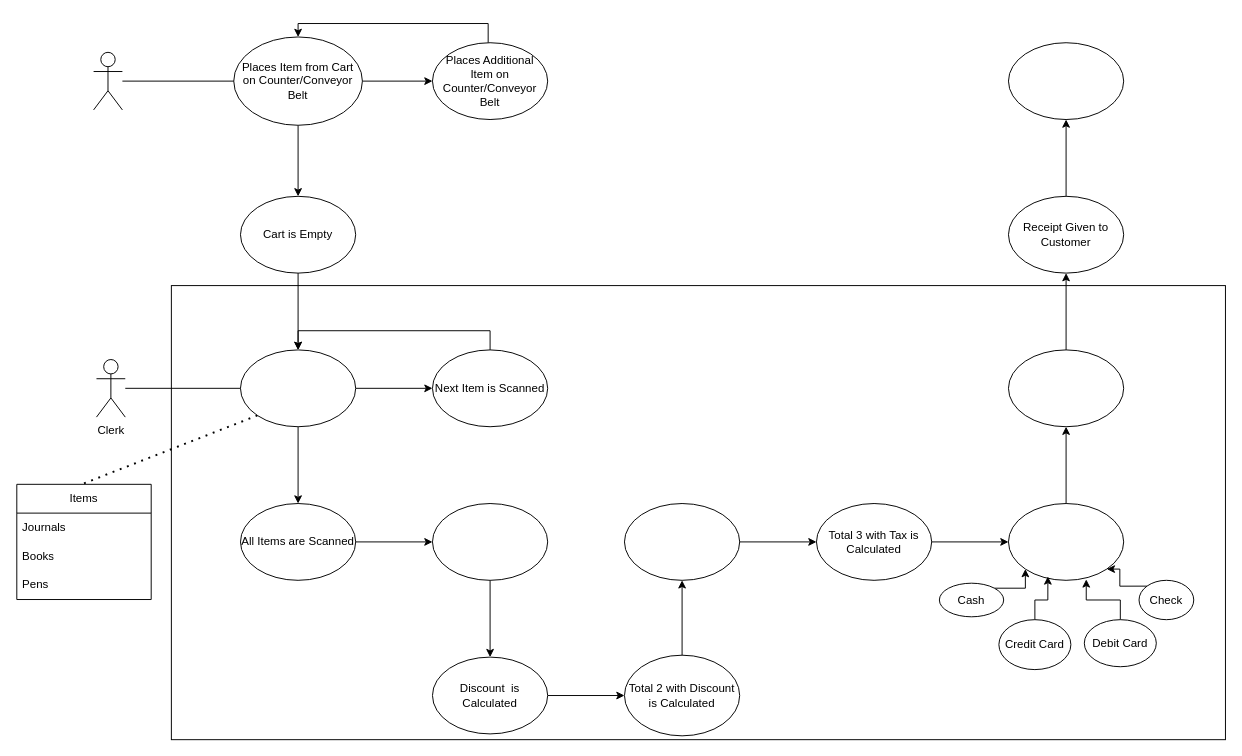
Some shapes in this 1242 by 756 pixel diagram are drawn without their labels. Each missing label, with the centre of its shape:
"Customer" belongs at (x=107, y=80).
"Item is Scanned" belongs at (x=298, y=388).
"Payment Collected" belongs at (x=1066, y=541).
"Receipt Printed" belongs at (x=1066, y=388).
"Sale Completed" belongs at (x=1066, y=81).
"Tax is Calculated" belongs at (x=682, y=541).
"Total 1 is Calculated" belongs at (x=490, y=541).
